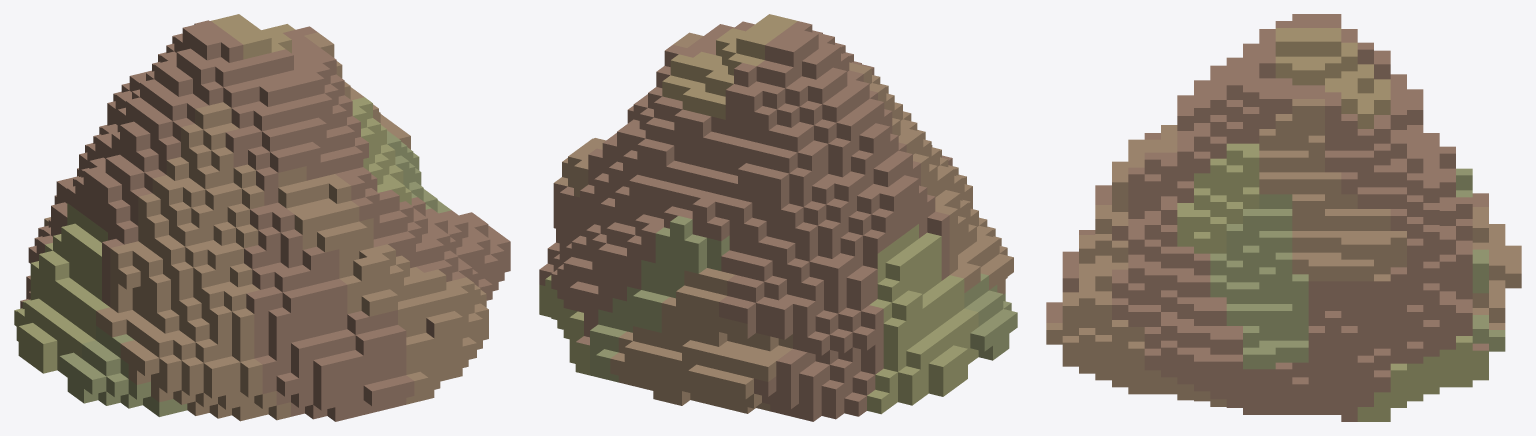
The model's file is JunkPile3.fbx.
3 renders of one model, left to right at view 1: azimuth 30°, elevation 25°; view 2: azimuth 150°, elevation 25°; view 3: azimuth 270°, elevation 25°, orthographic.
Visible parts, largest first — view 1: Cube.059; view 2: Cube.059; view 3: Cube.059.
Part boxes in pixels (x1=…): Cube.059: x1=14, y1=14, x2=510, y2=421; Cube.059: x1=539, y1=14, x2=1017, y2=421; Cube.059: x1=1046, y1=14, x2=1521, y2=421.
Size of the model in its own units: 523 by 361 by 523.
